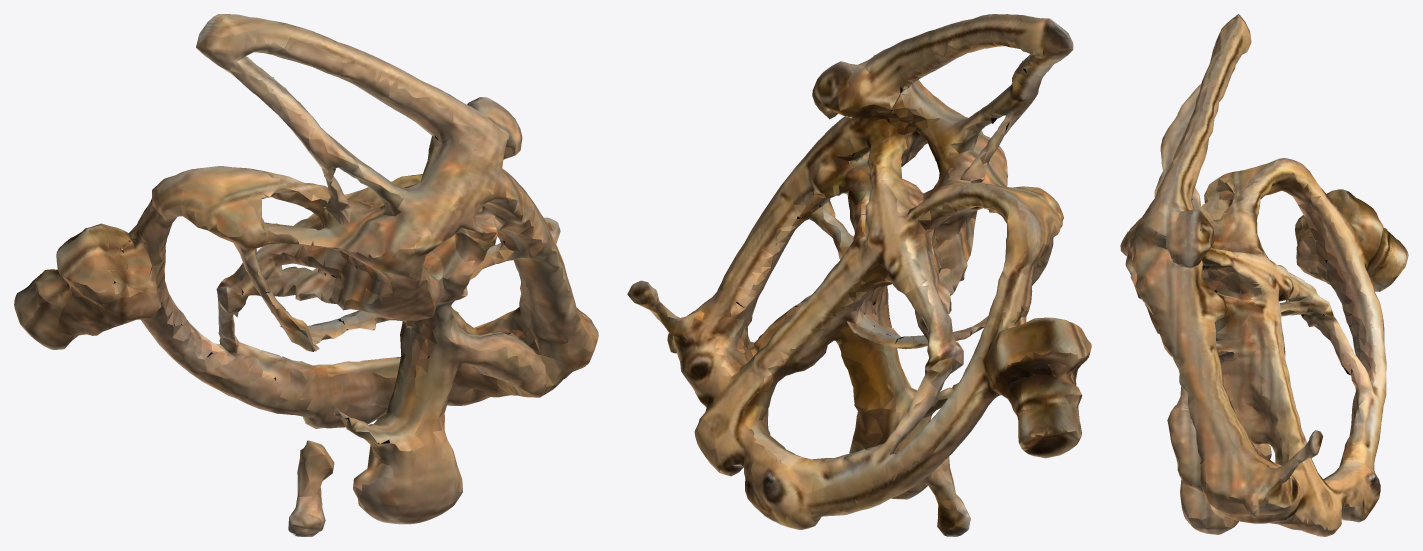
The model's file is 12_58_20_21_brass-sextant.glb.
The picture shows the model from 3 angles, left to right: view 1: azimuth 30°, elevation 25°; view 2: azimuth 150°, elevation 25°; view 3: azimuth 270°, elevation 25°; orthographic projection. The views are drawn at different scales.
Parts seen in each view (by area): view 1: world; view 2: world; view 3: world.
Part boxes in pixels (x1,y1,x2,y2): world: (14, 14, 598, 536); world: (627, 14, 1091, 536); world: (1120, 14, 1408, 536).
Bounding box in the file's own units: 0.8582 × 0.9007 × 0.5181.
1 material, 1 textured.
